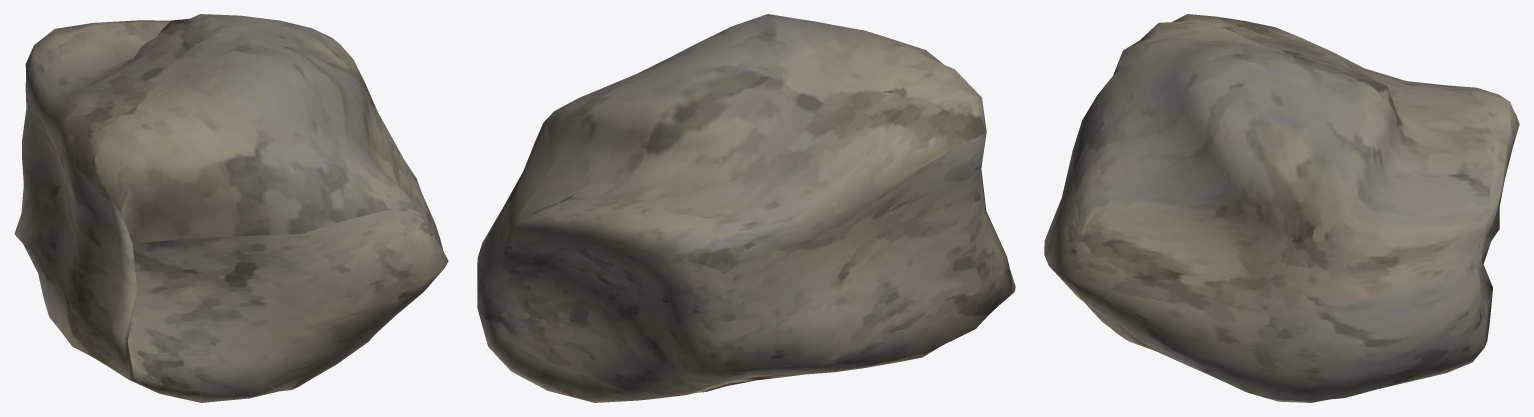
The model's file is pedra2.fbx.
3 renders of one model, left to right at view 1: azimuth 30°, elevation 25°; view 2: azimuth 150°, elevation 25°; view 3: azimuth 270°, elevation 25°, orthographic. The views are drawn at different scales.
Parts seen in each view (by area): view 1: Cube.002; view 2: Cube.002; view 3: Cube.002.
Boxes of the visible parts, x1,y1,x2,y2 form: Cube.002: [14, 14, 448, 402]; Cube.002: [477, 14, 1015, 402]; Cube.002: [1044, 14, 1519, 402].
Bounding box in the file's own units: 716 × 518 × 778.
